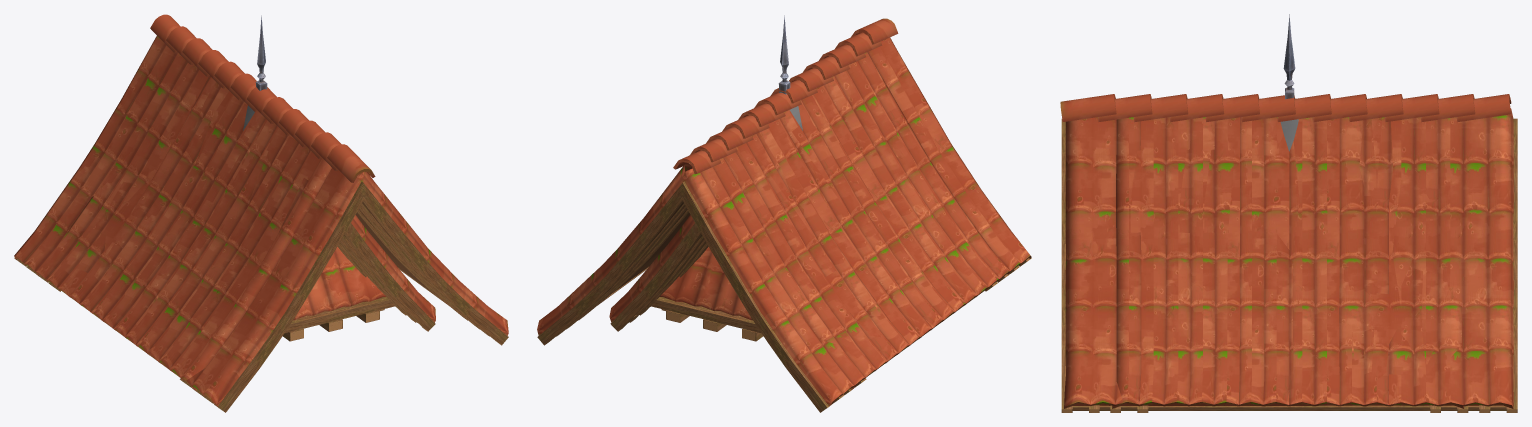
Rendered from medieval.glb.
3 renders of one model, left to right at view 1: azimuth 30°, elevation 25°; view 2: azimuth 150°, elevation 25°; view 3: azimuth 270°, elevation 25°, orthographic. The views are drawn at different scales.
Parts seen in each view (by area): view 1: Roof_RoundTiles_6x8, Roof_RoundTiles_6x6, Roof_Tower_RoundTiles, Roof_RoundTiles_4x6, Roof_RoundTiles_4x4; view 2: Roof_RoundTiles_6x8, Roof_RoundTiles_6x6, Roof_Tower_RoundTiles, Roof_RoundTiles_4x6; view 3: Roof_RoundTiles_6x8, Roof_RoundTiles_6x6, Roof_Tower_RoundTiles.
Boxes of the visible parts, box(x1,y1,x2,y2) form: Roof_RoundTiles_6x8: box(14, 14, 508, 412); Roof_RoundTiles_6x6: box(36, 26, 479, 394); Roof_Tower_RoundTiles: box(243, 15, 395, 341); Roof_RoundTiles_4x6: box(342, 215, 435, 331); Roof_RoundTiles_4x4: box(337, 239, 406, 315); Roof_RoundTiles_6x8: box(537, 18, 1031, 412); Roof_RoundTiles_6x6: box(566, 36, 1009, 394); Roof_Tower_RoundTiles: box(650, 15, 802, 341); Roof_RoundTiles_4x6: box(609, 215, 704, 331); Roof_RoundTiles_6x8: box(1060, 94, 1517, 412); Roof_RoundTiles_6x6: box(1098, 94, 1475, 412); Roof_Tower_RoundTiles: box(1280, 14, 1298, 151).
Bounding box in the file's own units: 8.25 × 8.91 × 9.68.
Materials: 9 (8 with a texture image).
